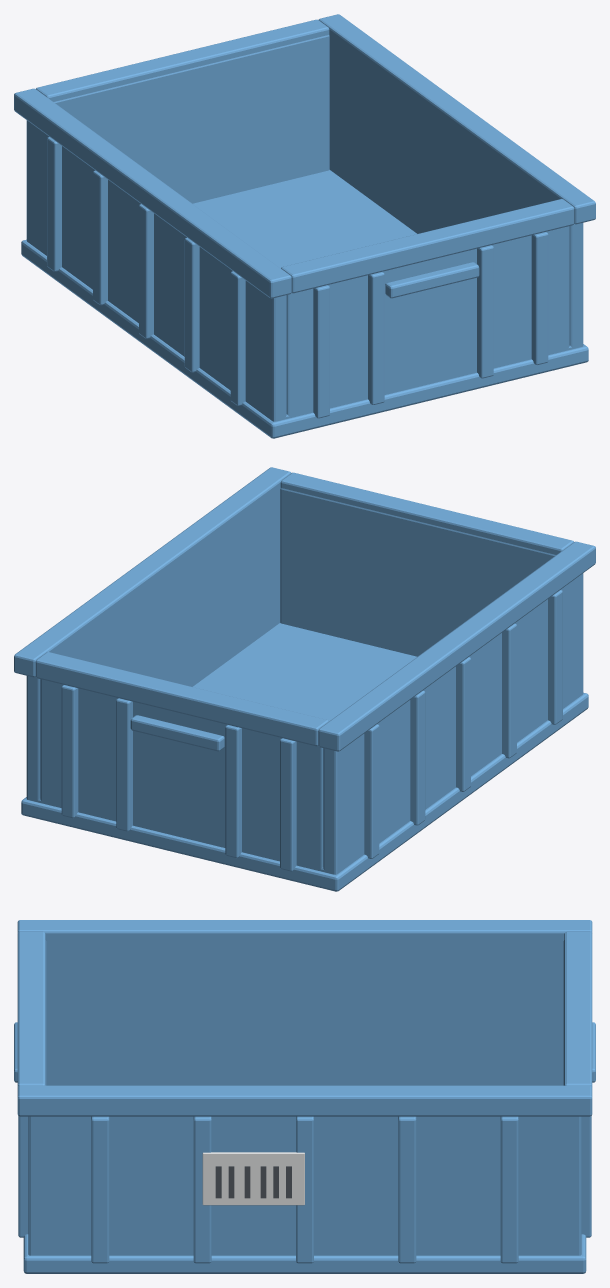
The model's file is box_plastic.glb.
The picture shows the model from 3 angles, top to bottom: view 1: azimuth 30°, elevation 25°; view 2: azimuth 150°, elevation 25°; view 3: azimuth 270°, elevation 25°; orthographic projection. The views are drawn at different scales.
Parts seen in each view (by area): view 1: Box; view 2: Box; view 3: Box, CrateLabel.
Boxes of the visible parts, x1,y1,x2,y2 form: Box: [14, 14, 595, 438]; Box: [14, 467, 595, 891]; Box: [14, 920, 595, 1273]; CrateLabel: [202, 1152, 304, 1205].
Size of the model in its own units: 0.6595 by 0.312 by 0.91.
